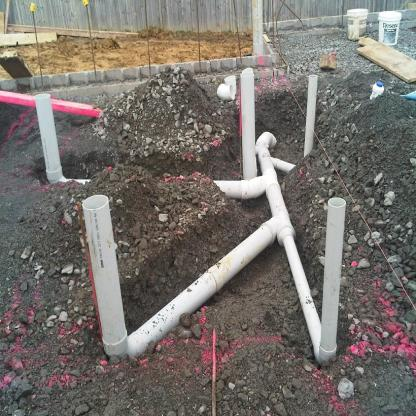PVC: (34, 66, 321, 361)
